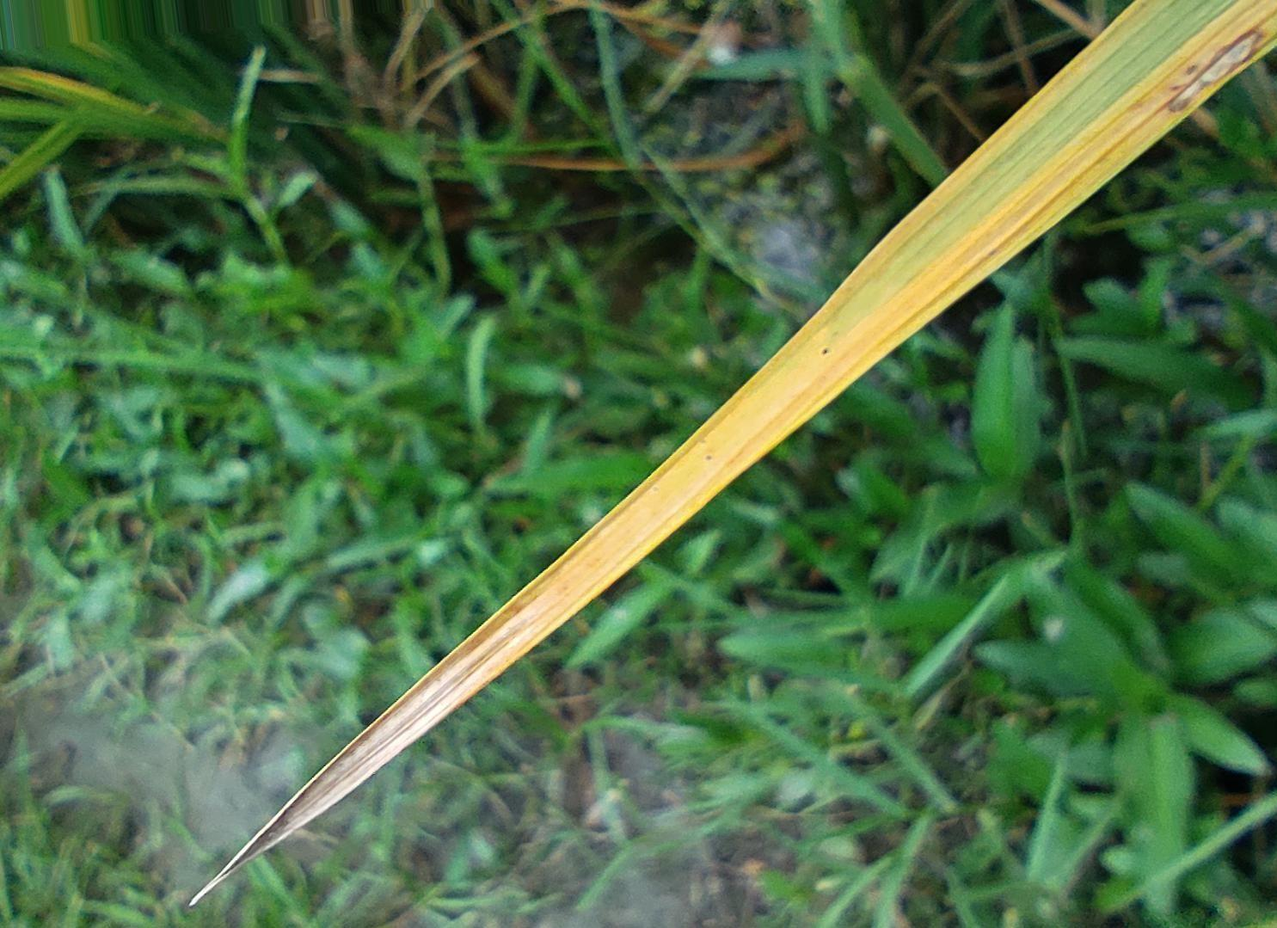LEAF: (192, 0, 1276, 904)
LEAF BLAST: (1168, 25, 1267, 113)
